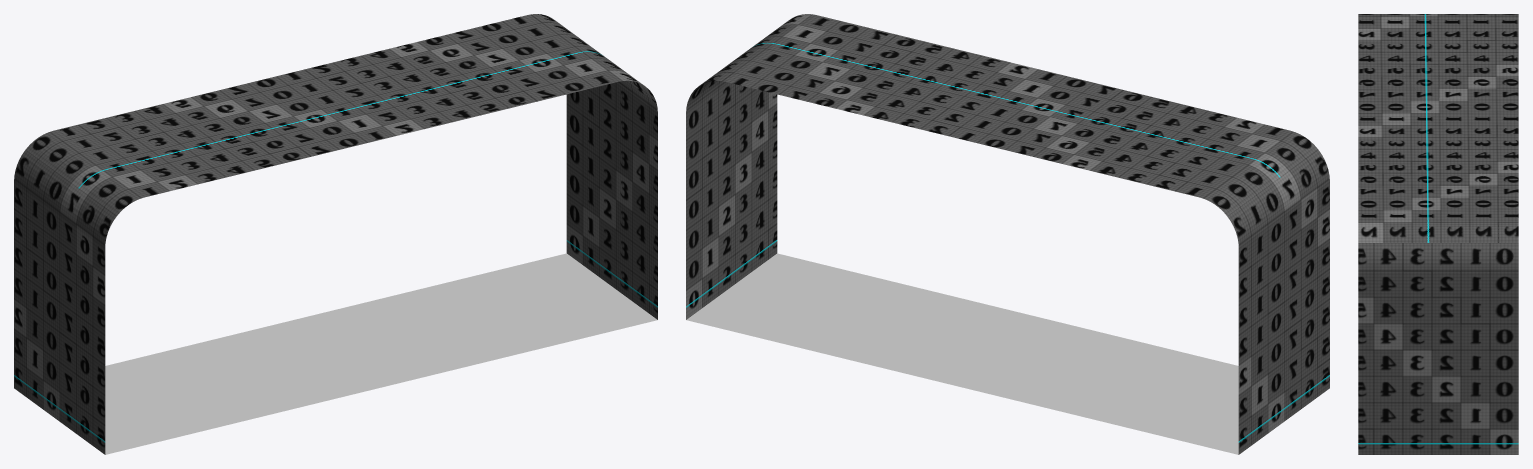
Rendered from WallFrameRound700x300x200cm.FBX.
3 views of the same model, side by side, from view 1: azimuth 30°, elevation 25°; view 2: azimuth 150°, elevation 25°; view 3: azimuth 270°, elevation 25° (orthographic). The views are drawn at different scales.
Parts seen in each view (by area): view 1: WallFrameRound700x300x200cm; view 2: WallFrameRound700x300x200cm; view 3: WallFrameRound700x300x200cm.
Boxes of the visible parts, x1,y1,x2,y2 form: WallFrameRound700x300x200cm: [14, 14, 657, 454]; WallFrameRound700x300x200cm: [686, 14, 1329, 454]; WallFrameRound700x300x200cm: [1358, 14, 1518, 454].
Size of the model in its own units: 700 by 300 by 200.
